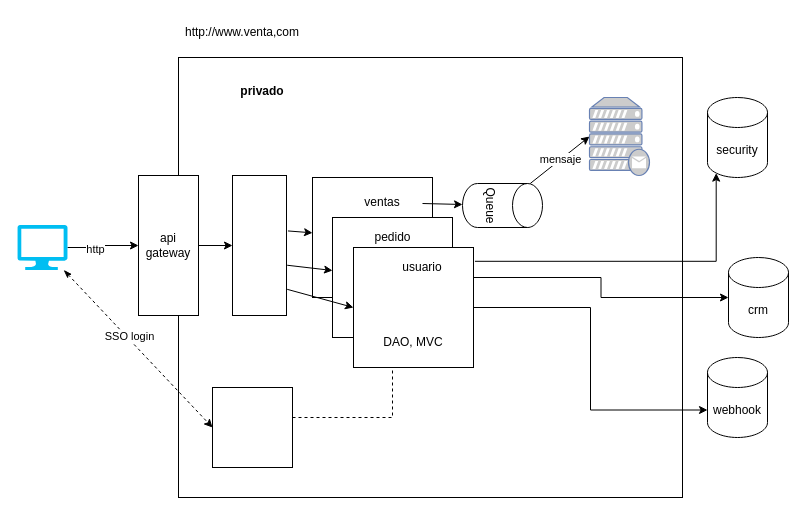
This 806x515 diagram has some shape labels left out. Each missing label, with the box of its shape:
cliente MVC: (17, 224, 67, 270)
load balancer: (232, 174, 286, 316)
servidor correo: (588, 96, 650, 176)
SSO single sign on federated: (212, 386, 292, 468)
